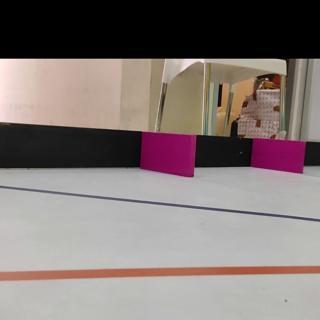xparking: (145, 136, 196, 170), (254, 143, 304, 169)
